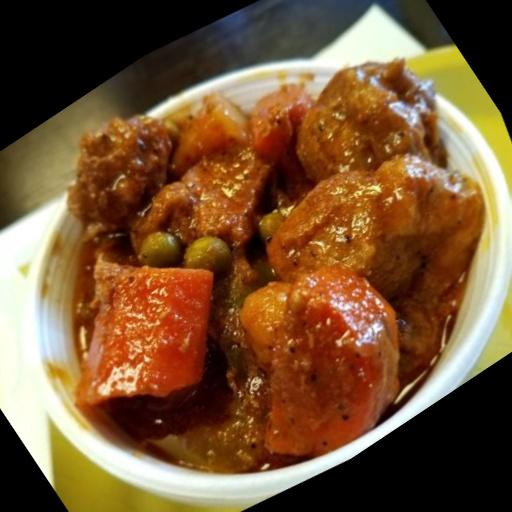pork caldereta: (79, 62, 481, 471)
